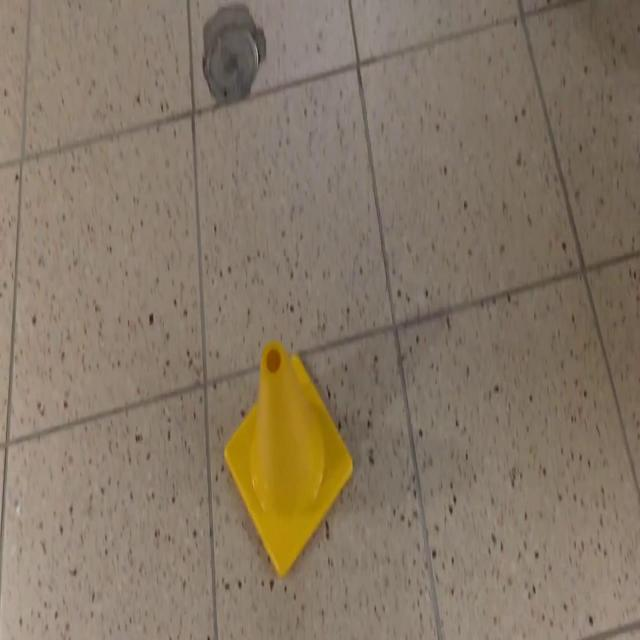frc_cone: (222, 341, 354, 578)
